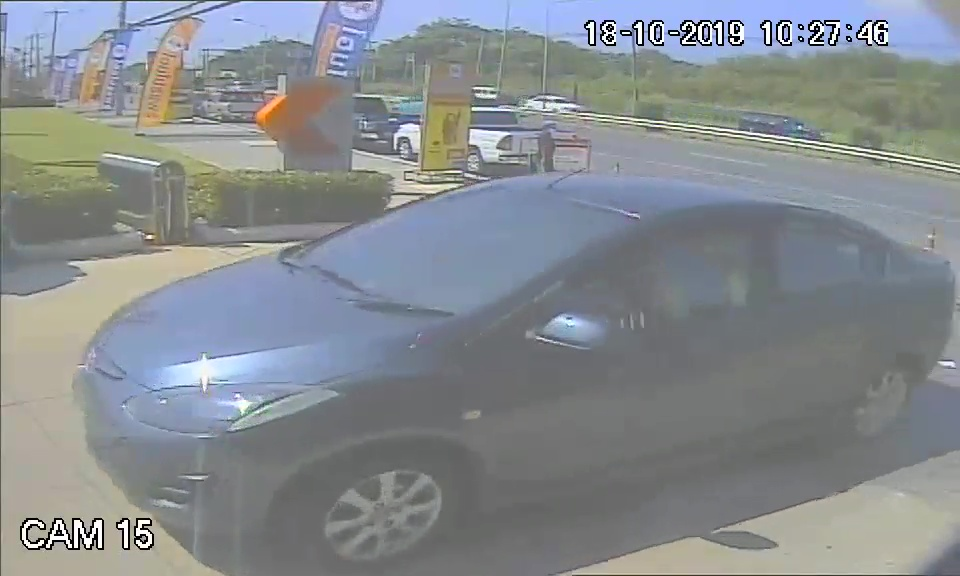sedan: (62, 173, 951, 509)
